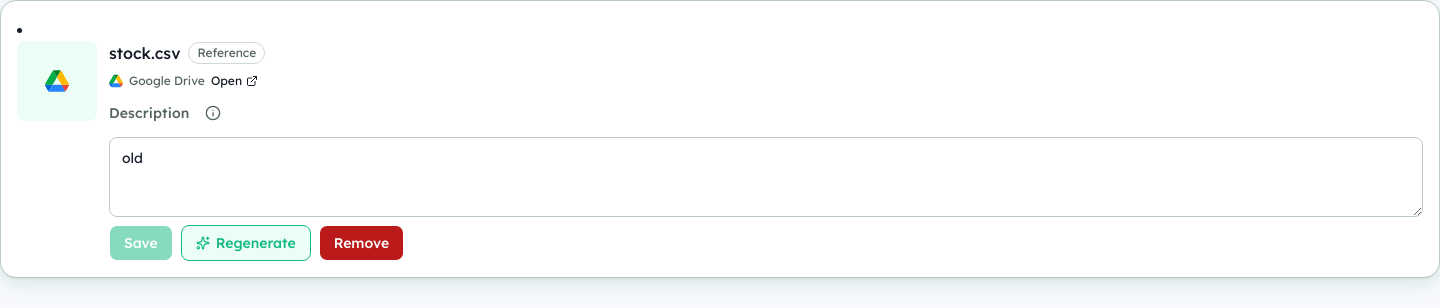
Scenario: AgentAssetRow removal › AgentAssetRow → shows reference details and regenerates the description
Check: the text "Reference" is shown, box 188,42 -> 265,64
Click the button "Regenerate". click: (246,243)
box: 181,225 -> 311,261
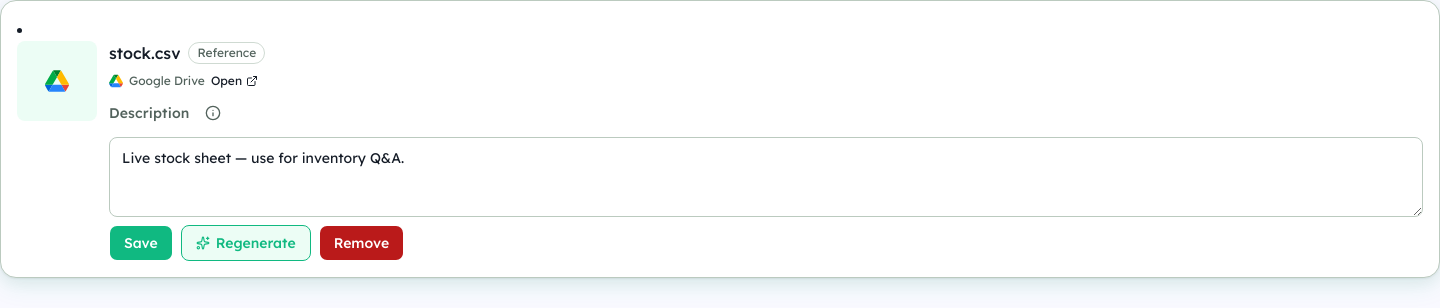
Check: the text box labelled "Description" holds "Live stock sheet — use for inventory Q&A.", box 109,137 -> 1423,217
Check: the button "Save" is enabled, box 109,225 -> 173,261
